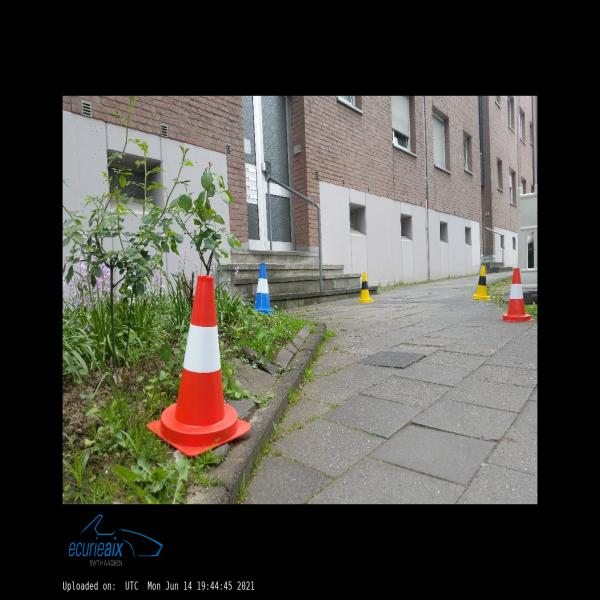blue_cone: (254, 263, 275, 315)
orange_cone: (147, 276, 250, 456), (500, 268, 533, 322)
yellow_cone: (471, 266, 490, 300), (357, 272, 372, 302)
